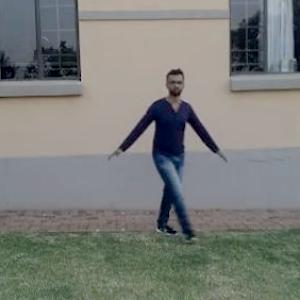land: (104, 67, 234, 238)
